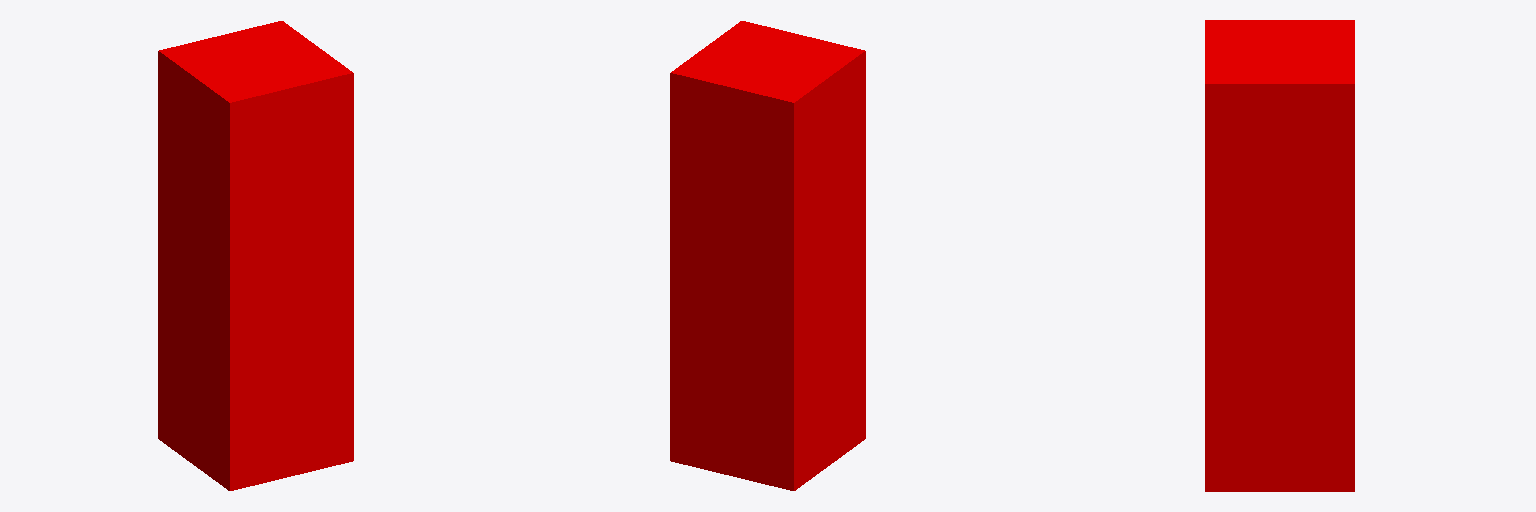
URDF robot description (sq_column):
<robot xmlns:xacro="http://www.ros.org/wiki/xacro" name="sq_column">
  <link name="box">
    <visual>
      <geometry>
        <box size="3 1 1"/>
      </geometry>
      <origin rpy="0 1.5707 0" xyz="0 0 0"/>
      <material name="red">
        <color rgba="1 0 0 1"/>
      </material>
    </visual>
    <collision>
      <geometry>
        <box size="3 1 1"/>
      </geometry>
      <origin rpy="0 1.5707 0" xyz="0 0 0"/>
    </collision>
    <inertial>
      <mass value="20"/>
      <inertia ixx="0.0" ixy="0" ixz="0" iyy="0.0" iyz="0" izz="0.0"/>
    </inertial>
  </link>
</robot>

--- What the picture shows (computed from the rendered views, not written in the file) ---
The picture shows the robot from 3 angles, left to right: view 1: azimuth 30°, elevation 25°; view 2: azimuth 150°, elevation 25°; view 3: azimuth 270°, elevation 25°; orthographic projection.
Model sq_column with 1 links and 0 joints (none), rooted at box, posed every joint at zero.
Links seen in each view (by area): view 1: box; view 2: box; view 3: box.
Boxes of the visible links, x1,y1,x2,y2 form: box: (158, 21, 353, 490); box: (670, 21, 865, 490); box: (1205, 20, 1354, 491).
Size in the robot's own frame: 1 by 1 by 3 metres.
Geometry: primitives only (box / cylinder / sphere), no mesh files.